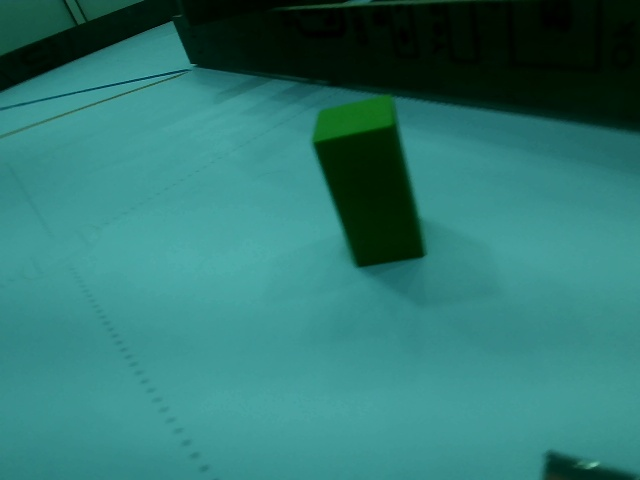green: (319, 113, 422, 255)
